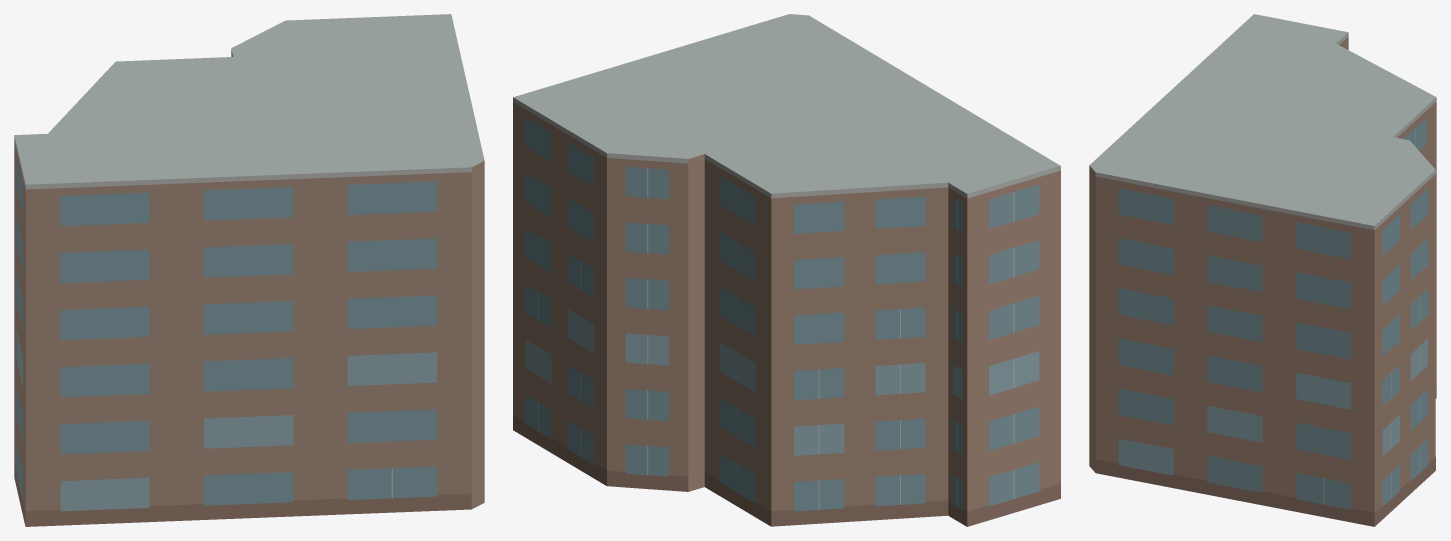
The model's file is survey-upis-32888871.glb.
3 views of the same model, side by side, from view 1: azimuth 30°, elevation 25°; view 2: azimuth 150°, elevation 25°; view 3: azimuth 270°, elevation 25° (orthographic). The views are drawn at different scales.
Visible parts, largest first — view 1: survey-upis-32888871.tmp; view 2: survey-upis-32888871.tmp; view 3: survey-upis-32888871.tmp.
Boxes of the visible parts, x1,y1,x2,y2 form: survey-upis-32888871.tmp: (14,14,484,526); survey-upis-32888871.tmp: (513,14,1060,526); survey-upis-32888871.tmp: (1089,14,1436,526).
Size of the model in its own units: 26.17 by 17.3 by 18.1.
